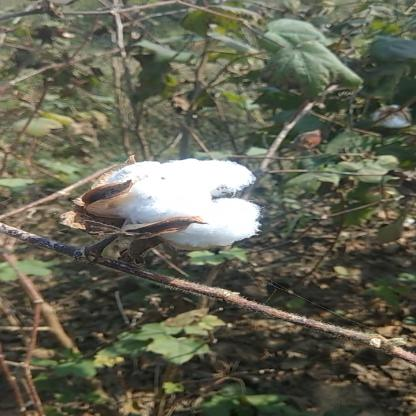cotton_ready: (94, 140, 256, 266)
